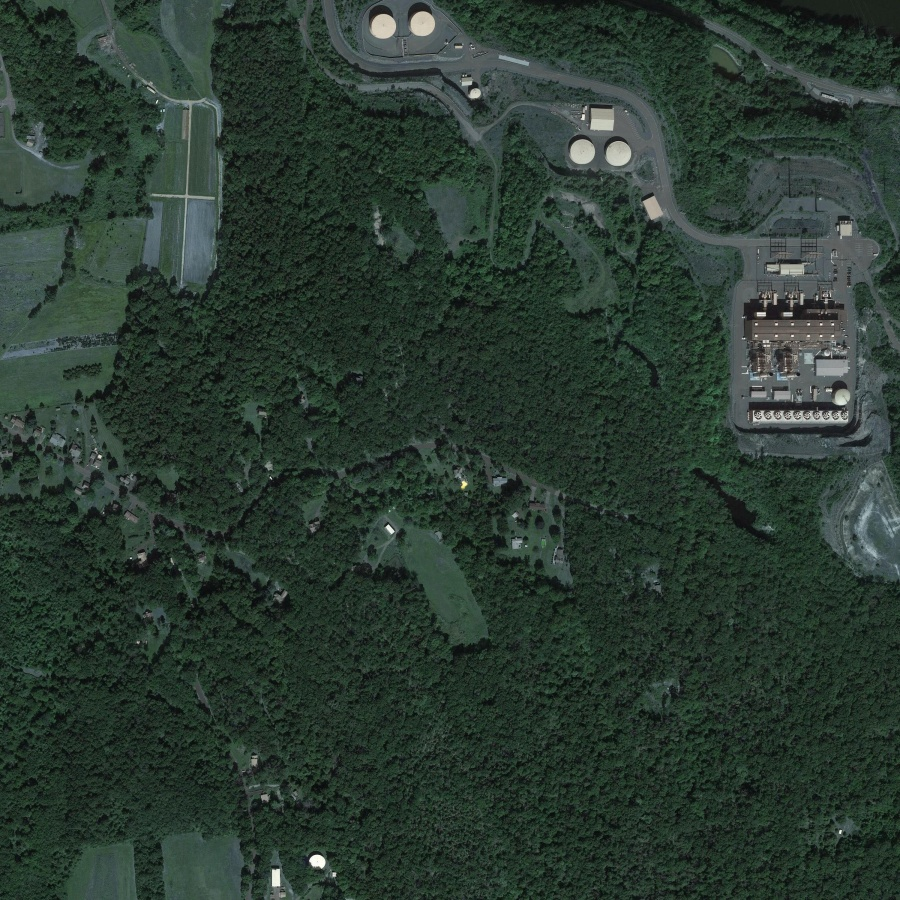PowerPlant: (735, 200, 881, 440)
